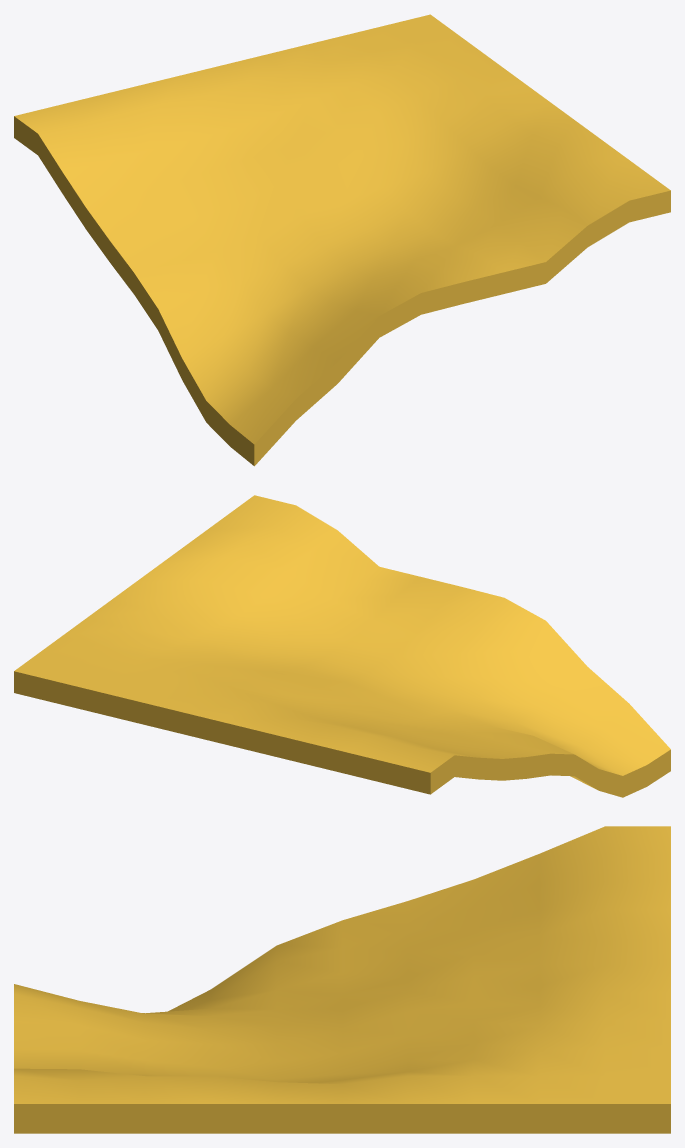
Rendered from Flach - Mitte - Ecke Invertiert a - b.fbx.
3 renders of one model, top to bottom at view 1: azimuth 30°, elevation 25°; view 2: azimuth 150°, elevation 25°; view 3: azimuth 270°, elevation 25°, orthographic. The views are drawn at different scales.
Visible parts, largest first — view 1: Flach - Mitte - Ecke Invertiert a - b; view 2: Flach - Mitte - Ecke Invertiert a - b; view 3: Flach - Mitte - Ecke Invertiert a - b.
Part boxes in pixels (box(x1,y1,x2,y2)): Flach - Mitte - Ecke Invertiert a - b: box(14, 14, 670, 466); Flach - Mitte - Ecke Invertiert a - b: box(14, 495, 670, 797); Flach - Mitte - Ecke Invertiert a - b: box(14, 826, 670, 1133).
Bounding box in the file's own units: 394 × 157 × 394.
